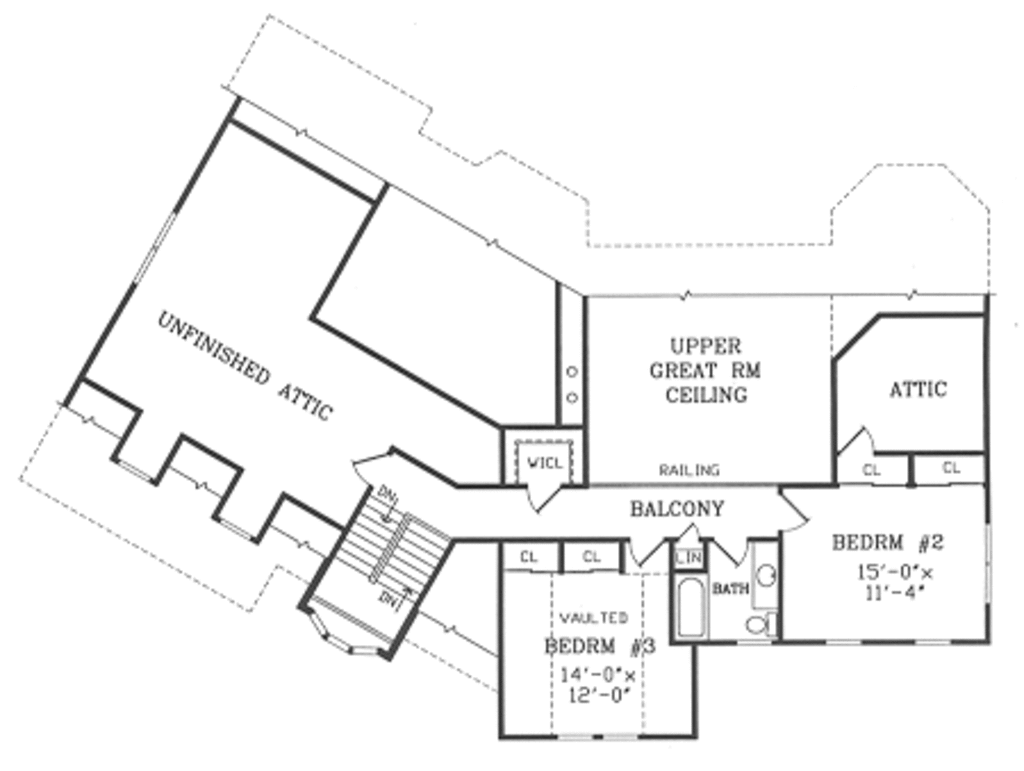door: (345, 444, 401, 490), (840, 418, 881, 473), (623, 528, 669, 577), (516, 477, 563, 519), (773, 498, 810, 533), (713, 535, 747, 571), (679, 517, 711, 548)
large_sink: (738, 615, 780, 641)
small_sink: (757, 540, 773, 602)
stairs: (335, 480, 456, 643)
tub: (670, 569, 713, 637)
window: (130, 212, 195, 279), (976, 522, 991, 622), (825, 637, 949, 647), (118, 452, 153, 486), (551, 735, 637, 747)
